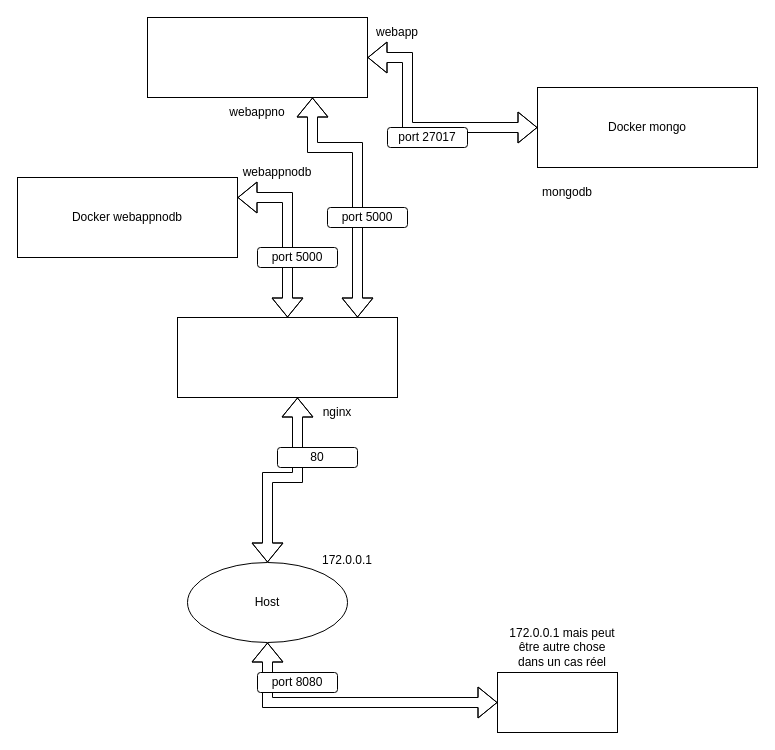
The diagram is 775 pixels wide and 750 high, and some of its shapes have lost their labels. The shapes that lost their labels are listed below. From the top down, each one's centre as x and y in pixels, then its label:
At pixel 257 57: "Docker webapp".
At pixel 287 357: "Docker nginx".
At pixel 557 702: "client".
